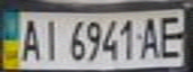1: (118, 16, 139, 61)
4: (100, 16, 121, 62)
6: (63, 16, 87, 62)
9: (81, 16, 103, 62)
A: (15, 15, 45, 62), (136, 14, 163, 61)
E: (154, 11, 190, 60)
I: (36, 16, 63, 62)
